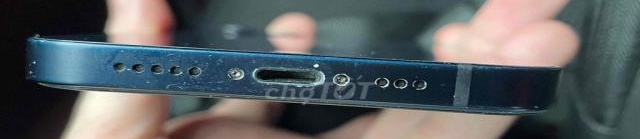scratch: (70, 38, 484, 122)
